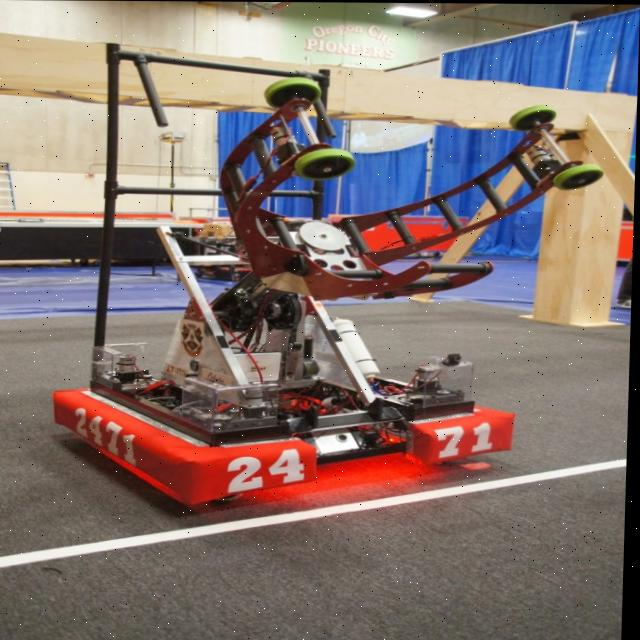robot: (48, 38, 524, 509)
